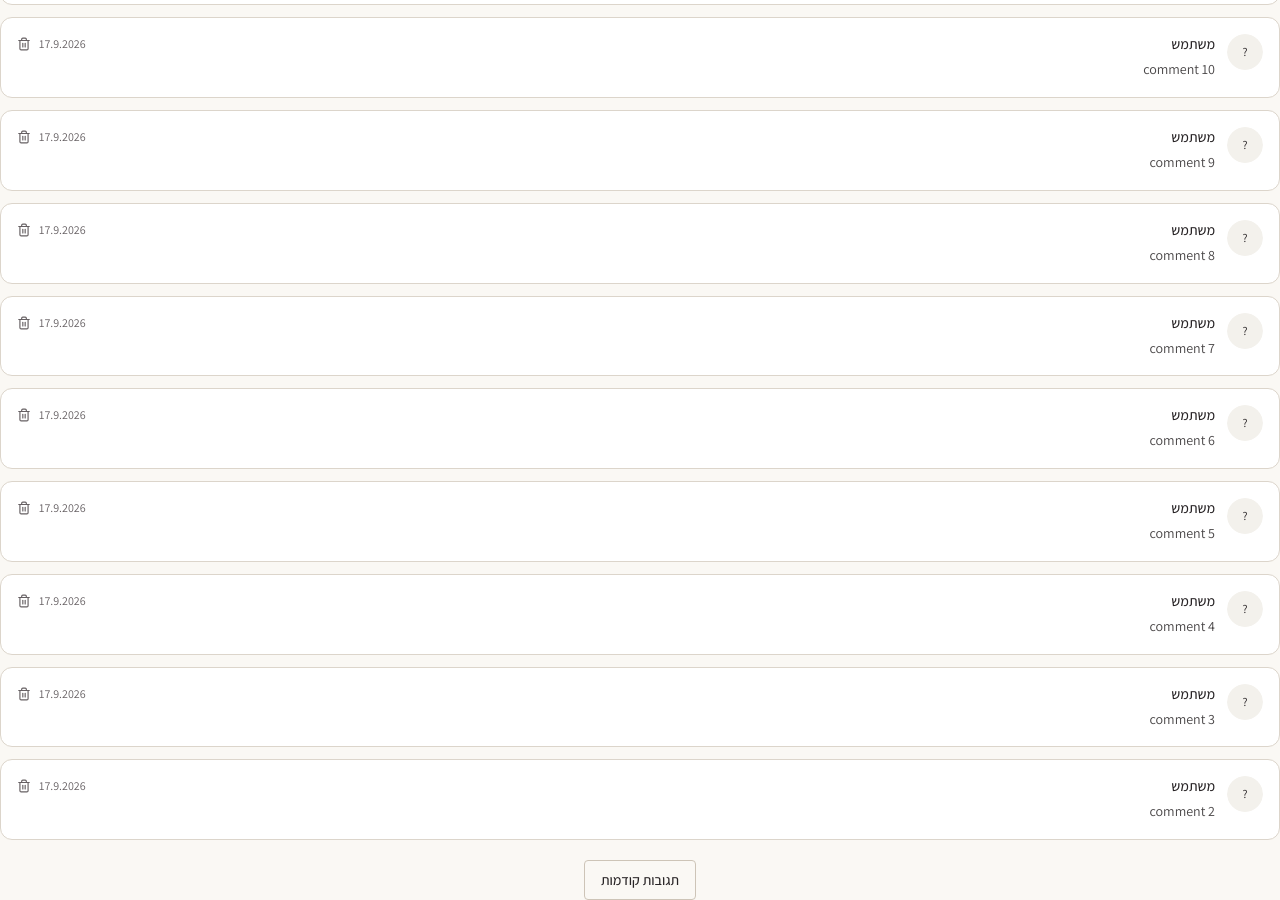
reaches comment 101 despite equal timestamps and deletion of the previous page boundary
The image size is (1280, 900).
(page scrolled)
Click the button "תגובות קודמות".
click(640, 880)  # box [584,860,696,899]
(page scrolled)
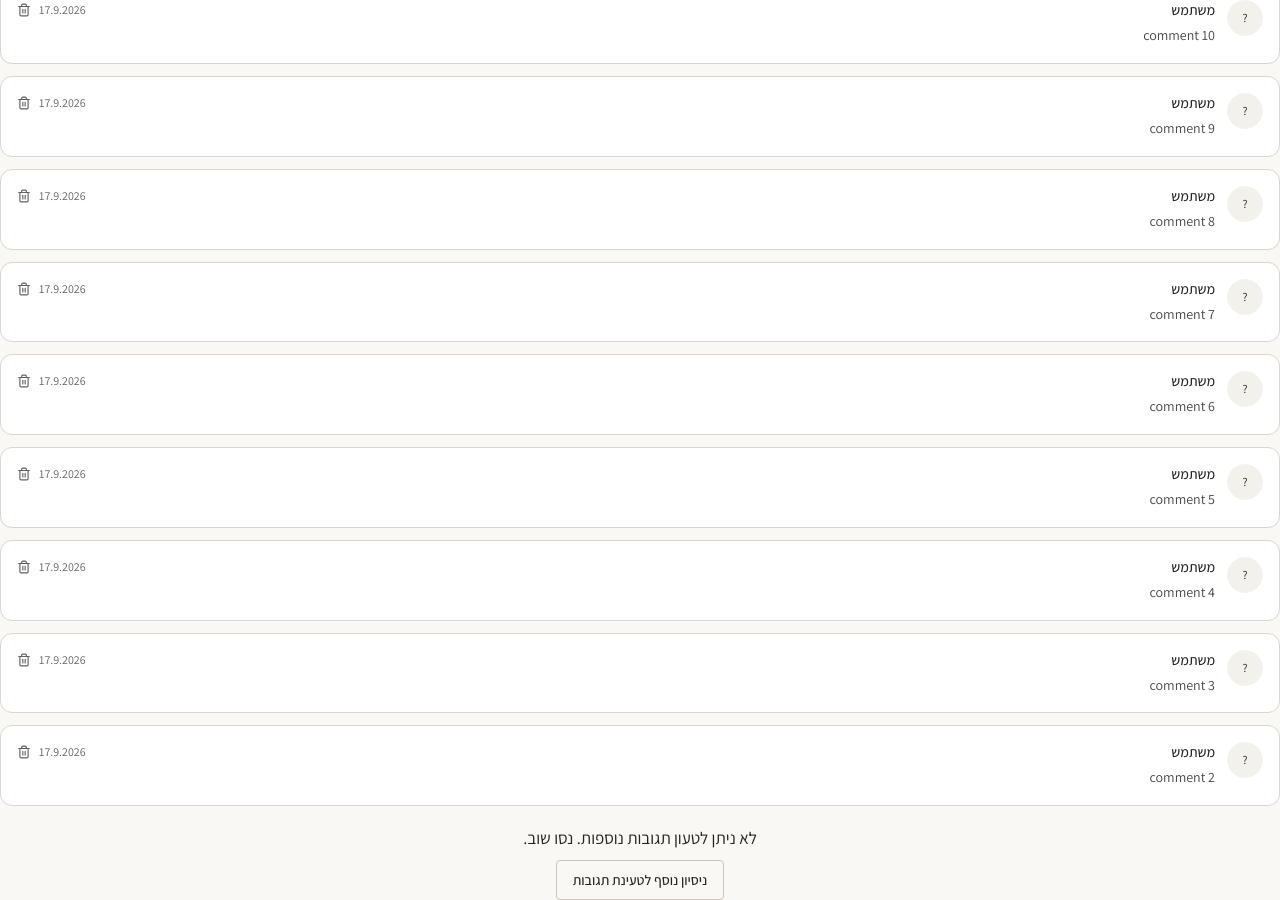
Expected: the message "לא ניתן לטעון תגובות נוספות. נסו שוב." is shown, [523,827,757,849]
Click the button "ניסיון נוסף לטעינת תגובות".
click(640, 880)  # box [556,860,724,899]
(page scrolled)
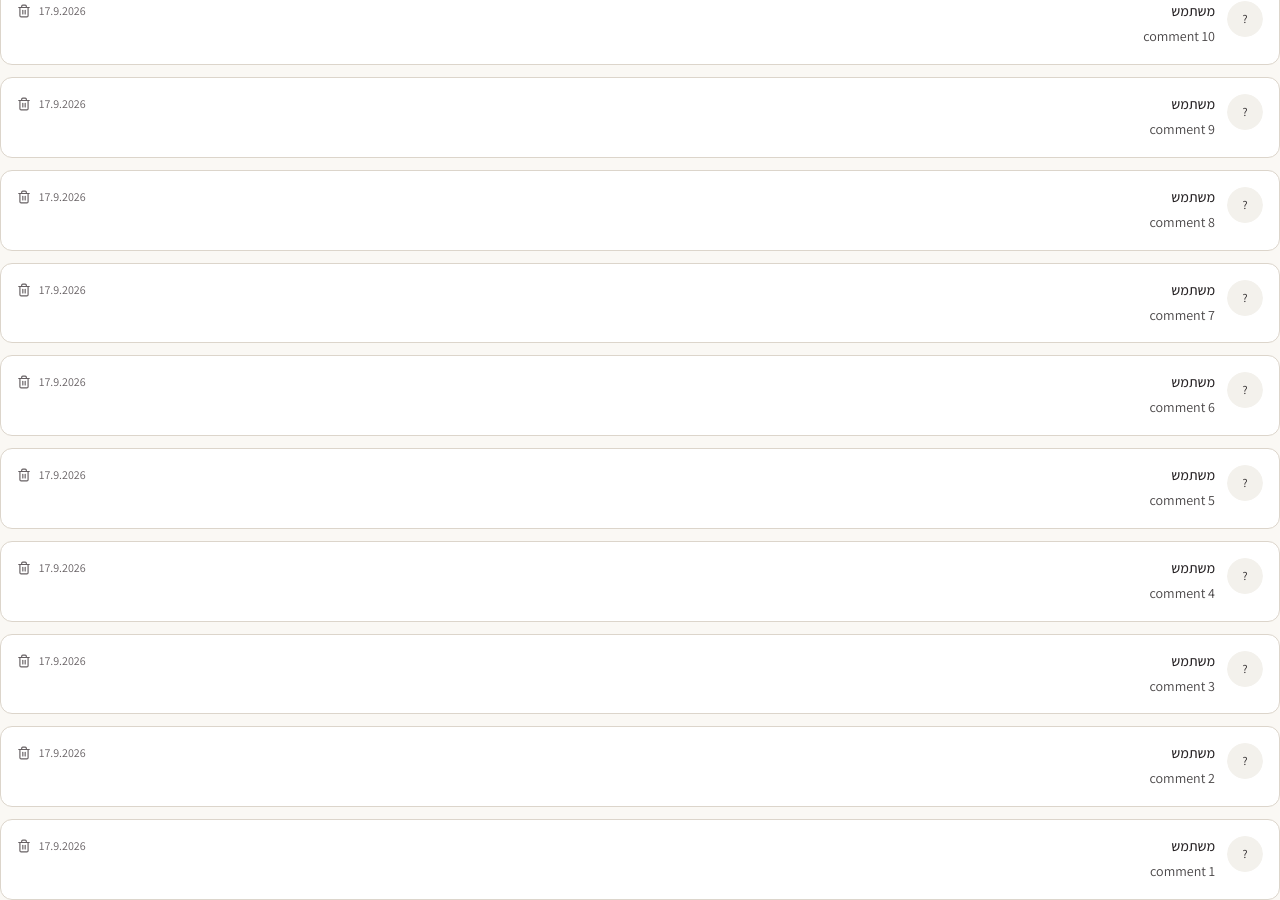
Expected: the button "תגובות קודמות" is not shown
Expected: the text "comment 1" is shown, [1150,862,1215,880]
